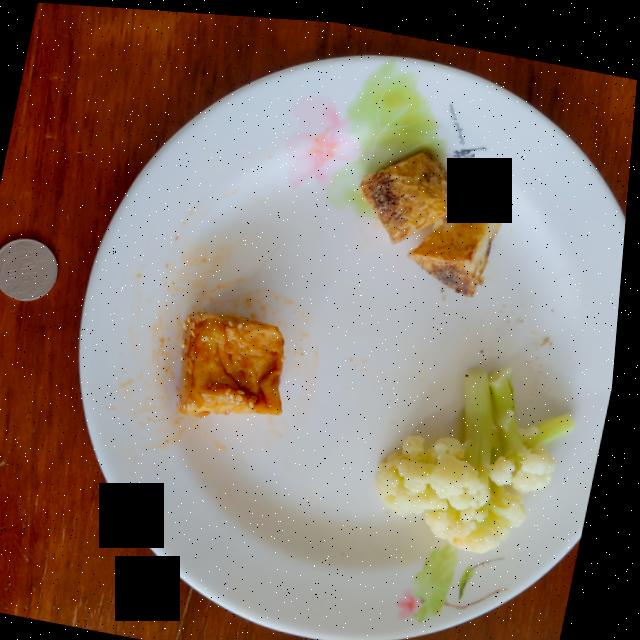coin: (0, 238, 62, 300)
fried potato: (361, 145, 506, 289)
